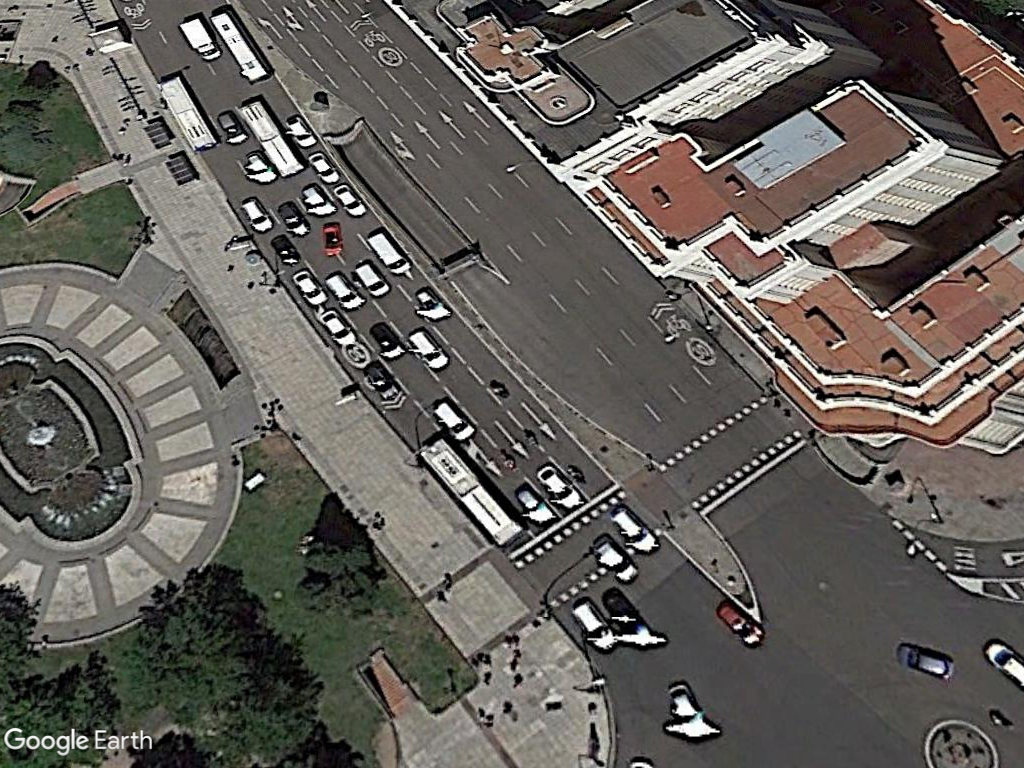bus: (410, 440, 523, 550), (151, 74, 218, 154), (206, 5, 272, 83)
car: (891, 636, 957, 684), (405, 326, 451, 371), (232, 190, 275, 234), (287, 268, 327, 308), (329, 182, 368, 220), (303, 148, 342, 185)
truck: (173, 16, 222, 64)
van: (363, 227, 413, 276)
